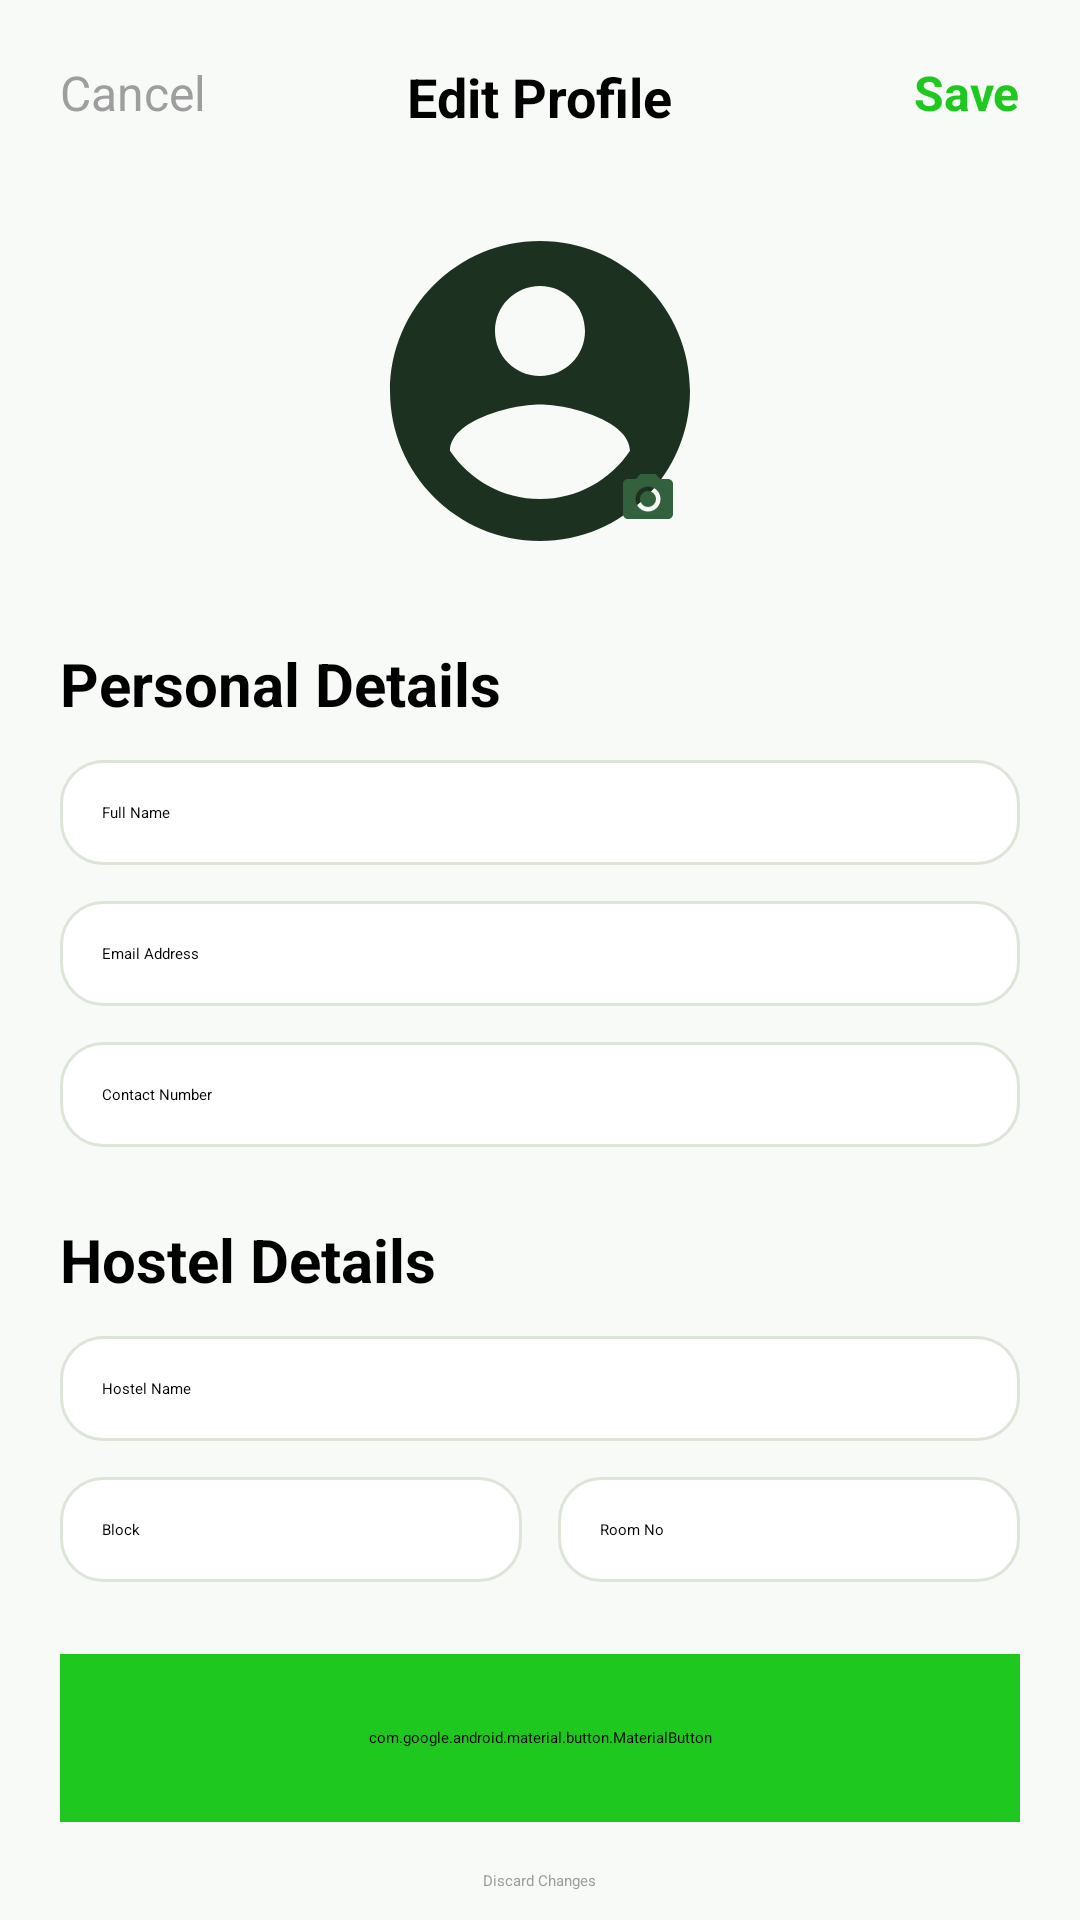

Locate icon controls on the screen. Image size 1080 × 1920, boxes as (x1, y1, x2, y2).
camera: (594, 445, 680, 531)
